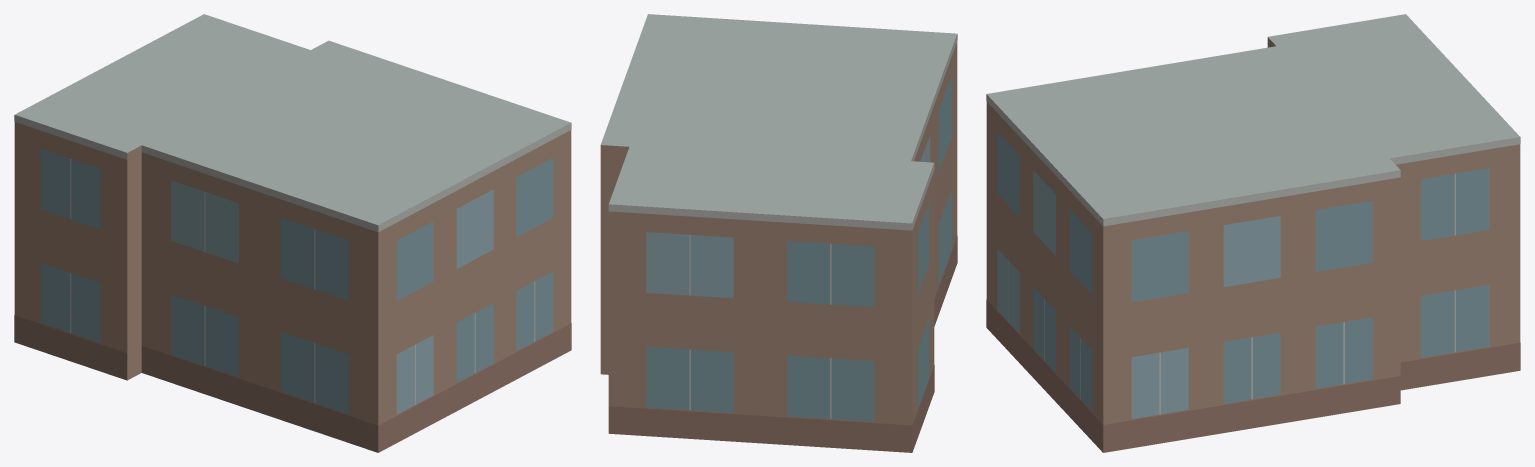
File: survey-upis-32806158.glb
The picture shows the model from 3 angles, left to right: view 1: azimuth 30°, elevation 25°; view 2: azimuth 150°, elevation 25°; view 3: azimuth 270°, elevation 25°; orthographic projection. The views are drawn at different scales.
Parts seen in each view (by area): view 1: survey-upis-32806158.tmp; view 2: survey-upis-32806158.tmp; view 3: survey-upis-32806158.tmp.
Part boxes in pixels (left/top/right/bottom): survey-upis-32806158.tmp: left=14, top=14, right=571, bottom=452; survey-upis-32806158.tmp: left=600, top=14, right=957, bottom=452; survey-upis-32806158.tmp: left=986, top=14, right=1520, bottom=452.
Bounding box in the file's own units: 14.89 × 7.9 × 16.37.
